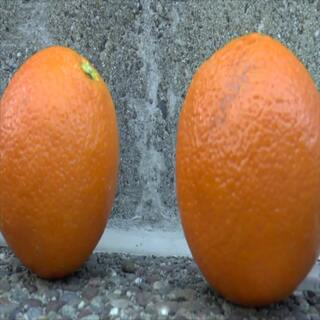orange: (174, 37, 320, 296), (1, 43, 122, 283)
